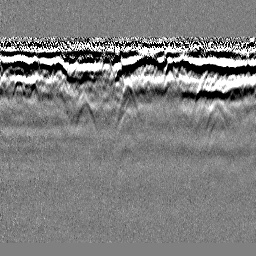cavity: (114, 76, 140, 126)
